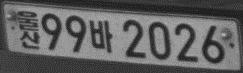0: (147, 20, 171, 60)
2: (122, 19, 146, 58), (174, 23, 198, 62)
6: (201, 25, 224, 64)
9: (64, 14, 87, 52), (40, 12, 62, 50)
바: (88, 19, 113, 52)
울산_V: (17, 10, 40, 50)
